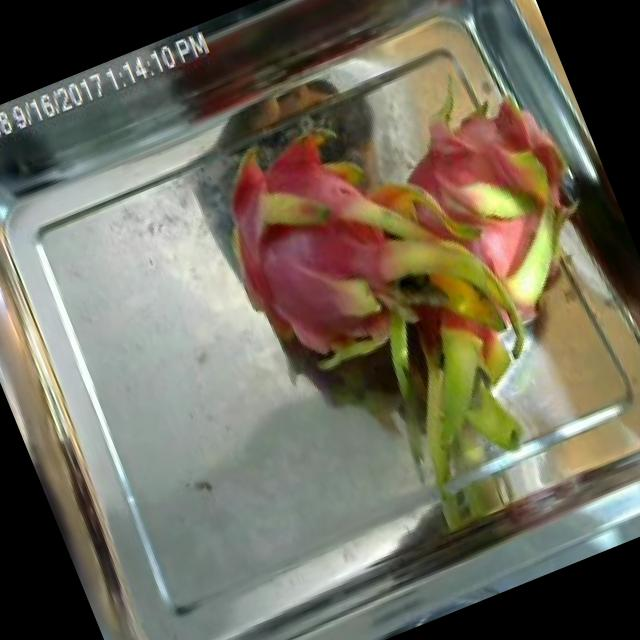Fruit: (300, 24, 502, 218)
